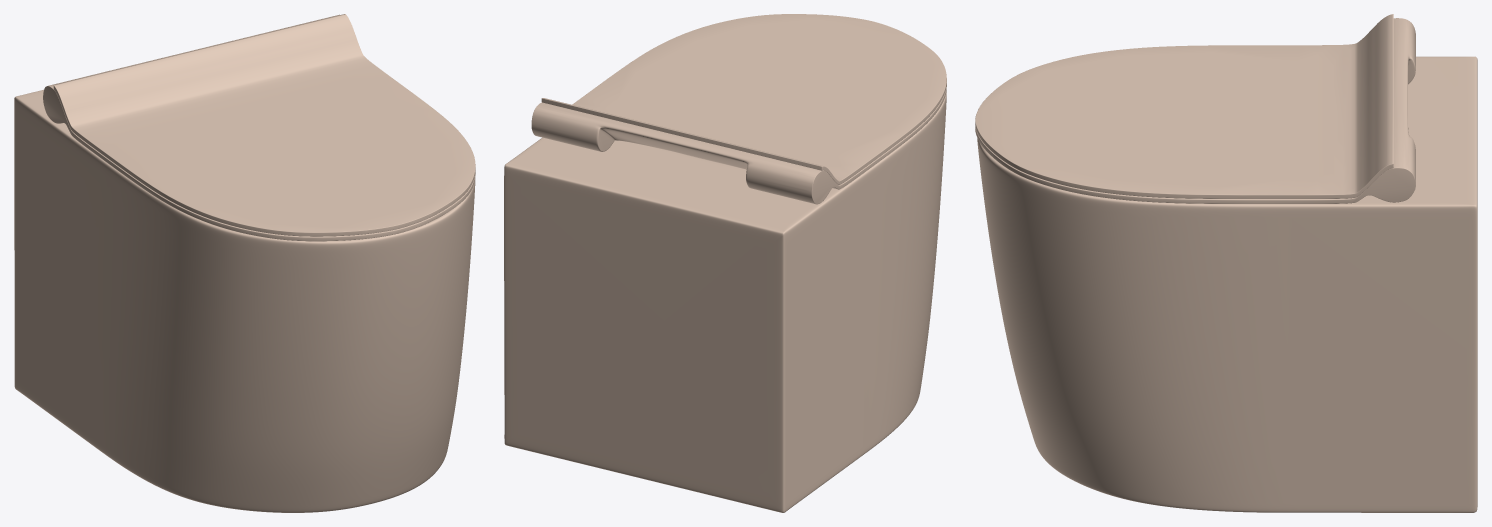
3 renders of one model, left to right at view 1: azimuth 30°, elevation 25°; view 2: azimuth 150°, elevation 25°; view 3: azimuth 270°, elevation 25°, orthographic. The views are drawn at different scales.
Visible parts, largest first — view 1: Plane042, Rectangle050, Rectangle049; view 2: Plane042, Rectangle050, Rectangle049; view 3: Plane042, Rectangle050, Rectangle049.
Boxes of the visible parts, x1,y1,x2,y2 form: Plane042: [14, 89, 475, 512]; Rectangle050: [53, 14, 475, 236]; Rectangle049: [43, 14, 475, 241]; Plane042: [504, 91, 946, 512]; Rectangle050: [541, 14, 946, 184]; Rectangle049: [531, 82, 946, 204]; Plane042: [977, 56, 1477, 512]; Rectangle050: [975, 14, 1393, 198]; Rectangle049: [975, 18, 1415, 203].
Size of the model in its own units: 0.3757 by 0.409 by 0.5318.
